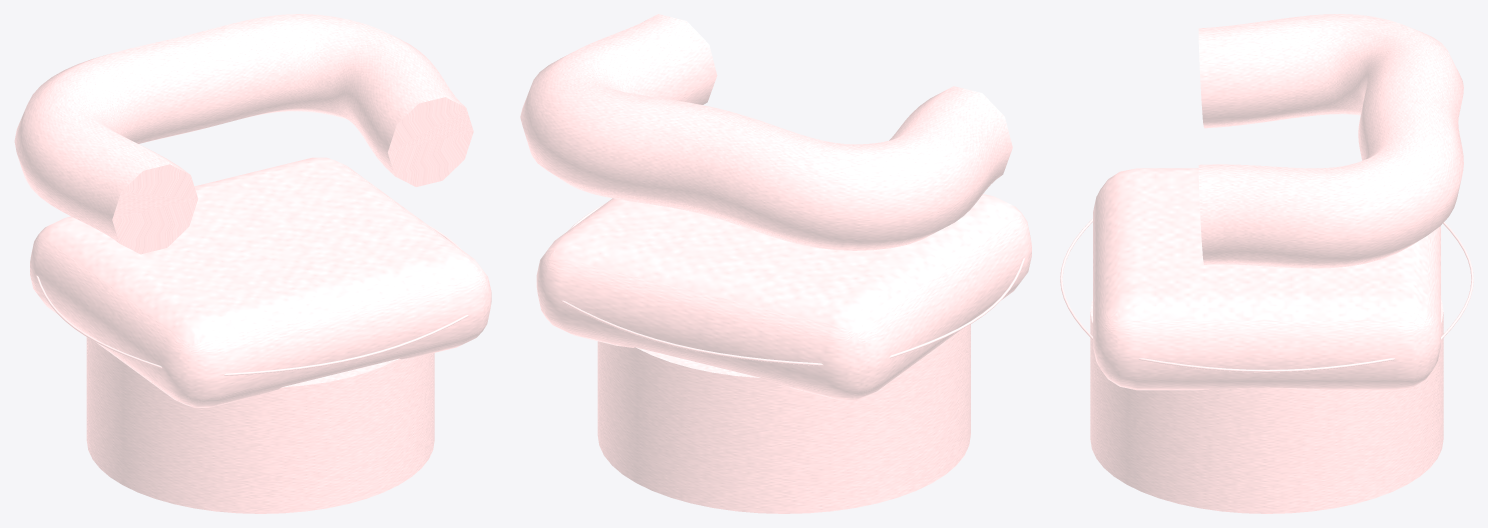
File: ref07_11.glb
The picture shows the model from 3 angles, left to right: view 1: azimuth 30°, elevation 25°; view 2: azimuth 150°, elevation 25°; view 3: azimuth 270°, elevation 25°; orthographic projection. The views are drawn at different scales.
Parts seen in each view (by area): view 1: ref07_11; view 2: ref07_11; view 3: ref07_11.
Part boxes in pixels (x1,y1,x2,y2): ref07_11: (14, 14, 491, 513); ref07_11: (520, 14, 1031, 513); ref07_11: (1060, 14, 1473, 513).
Size of the model in its own units: 0.9211 by 0.7782 by 0.8198.
1 material, 1 textured.
